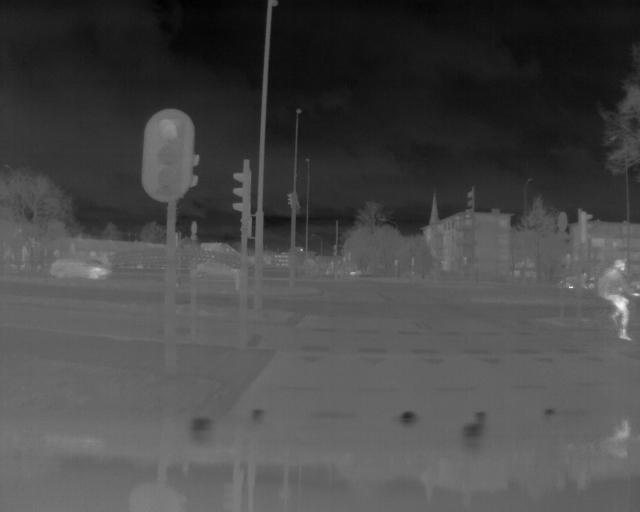person: (587, 239, 637, 352)
